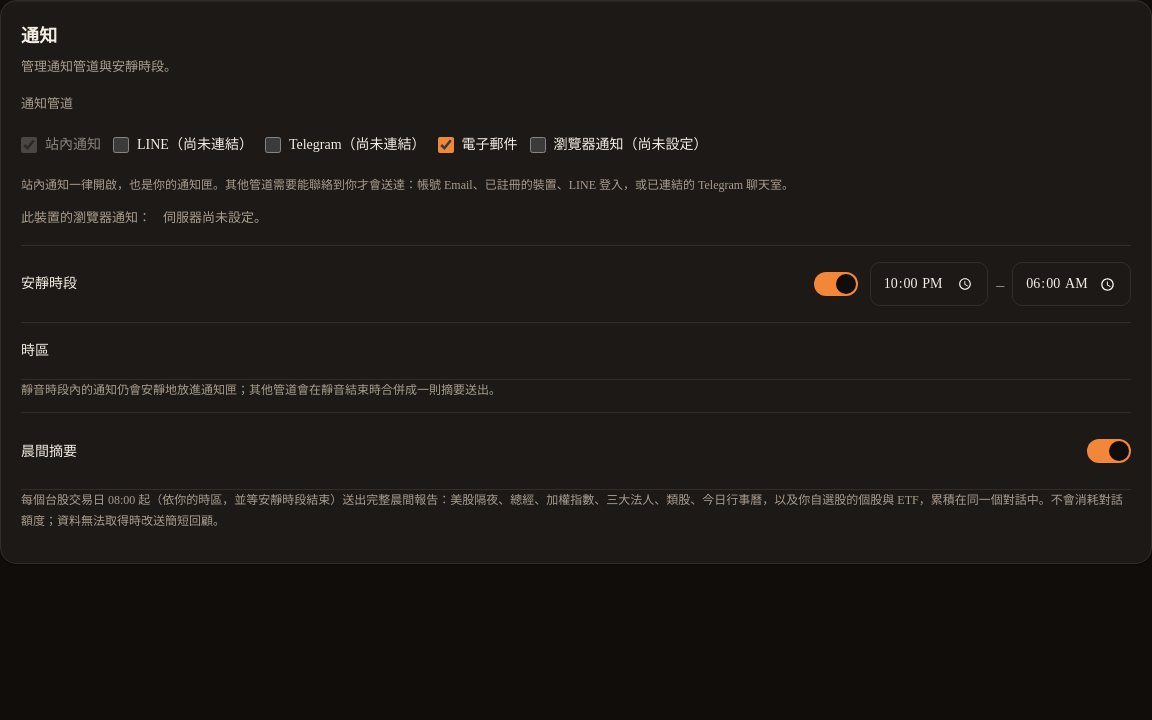
Test: NotificationsPanel actions › editing the quiet start marks the form dirty
Replace the text in the time field named "開始時間" with "21:00" at (929, 284), box [870, 262, 988, 306]
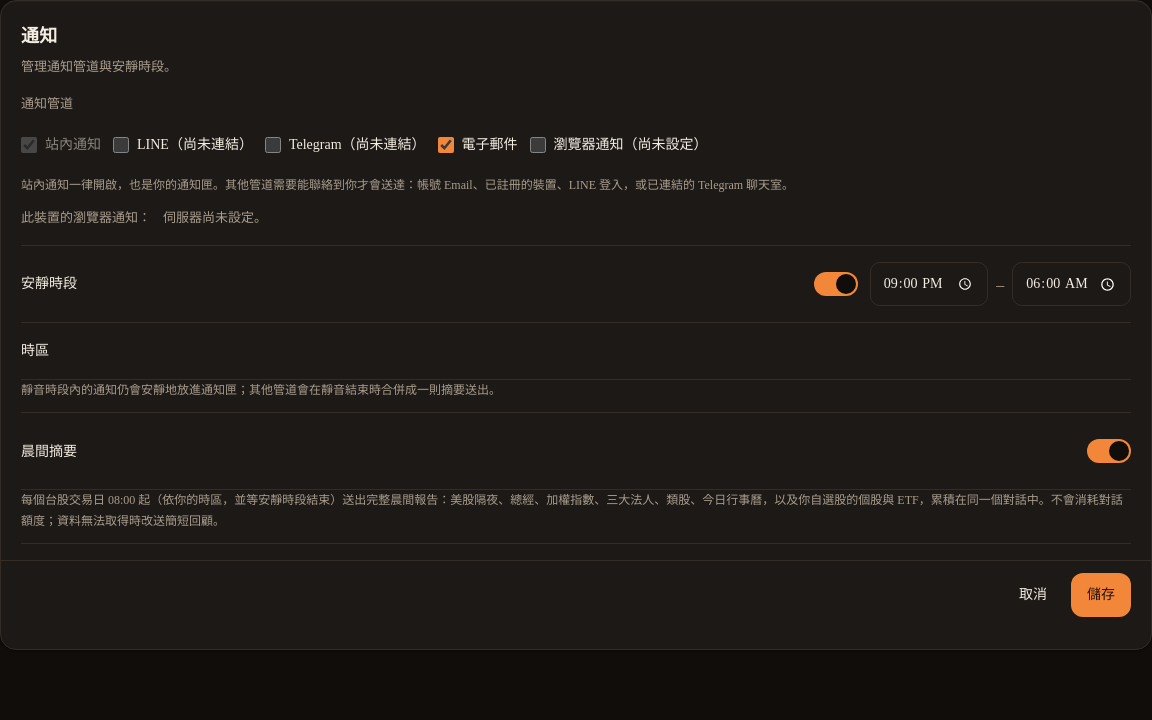
expect the button "儲存" is shown: met, box [1071, 573, 1131, 617]
